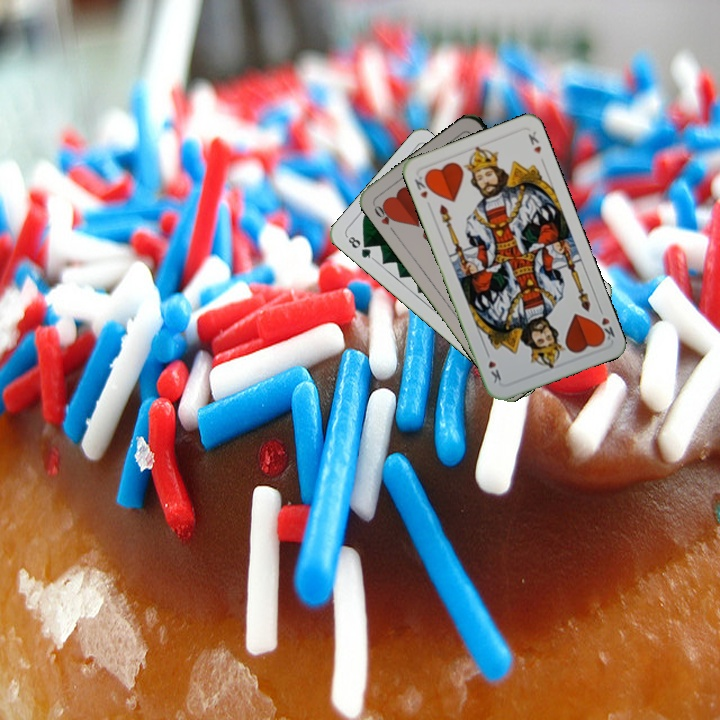G8: (343, 232, 377, 262)
HK: (592, 303, 617, 344), (410, 171, 434, 201)
HO: (369, 199, 399, 236)
